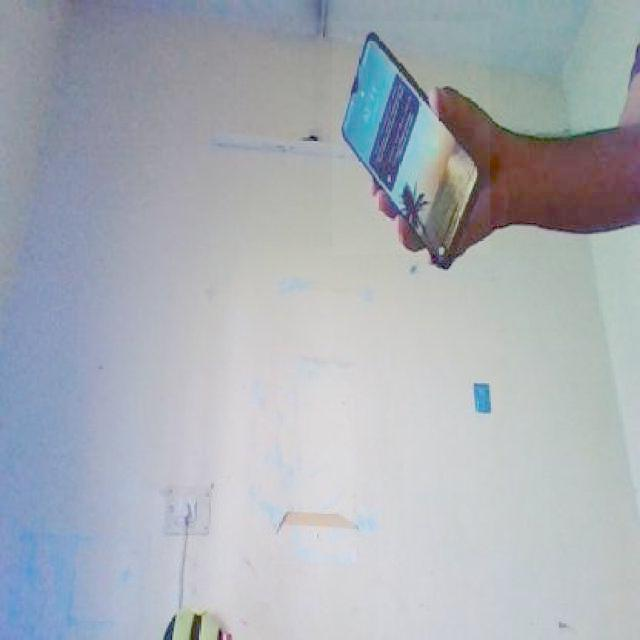mobile: (332, 21, 490, 254)
